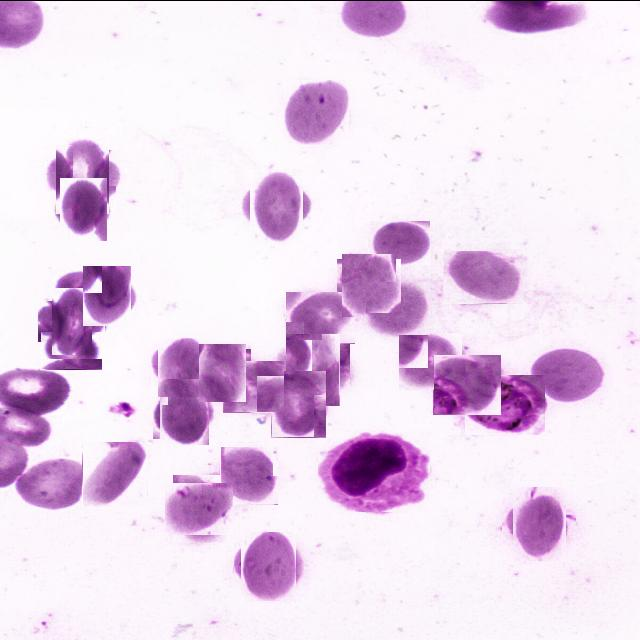leukocyte: (318, 431, 430, 511)
red blood cell: (465, 374, 545, 434), (243, 173, 310, 240), (284, 78, 350, 144), (443, 250, 523, 303), (50, 143, 115, 208), (82, 442, 148, 506), (507, 491, 571, 555), (433, 354, 501, 414), (16, 454, 88, 510), (282, 338, 345, 402), (531, 347, 603, 402), (238, 534, 300, 596), (398, 332, 462, 390), (271, 370, 326, 437), (285, 291, 355, 343), (170, 478, 230, 538), (339, 256, 398, 314), (366, 281, 430, 334), (220, 446, 278, 504), (56, 180, 112, 237), (223, 360, 284, 412), (156, 385, 212, 441), (44, 294, 99, 348), (80, 268, 135, 322), (154, 341, 208, 394), (196, 346, 248, 398), (370, 220, 430, 264), (55, 271, 117, 309), (41, 331, 102, 369)
